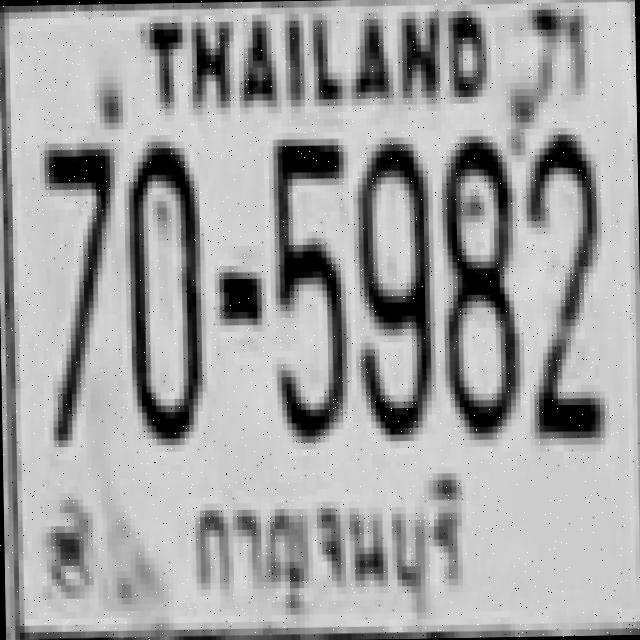0: (123, 134, 203, 438)
2: (522, 131, 602, 409)
5: (268, 132, 341, 311)
7: (39, 142, 114, 434), (39, 142, 112, 335)
8: (436, 128, 516, 434)
9: (352, 136, 432, 434)
Kanchanaburi: (179, 473, 472, 618)
